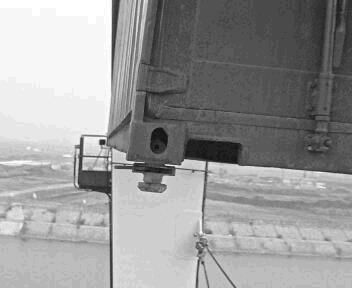twist_lock_1: (127, 162, 179, 199)
